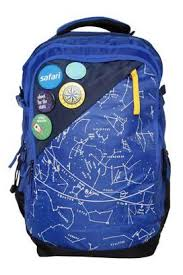backpack: (8, 15, 171, 258)
